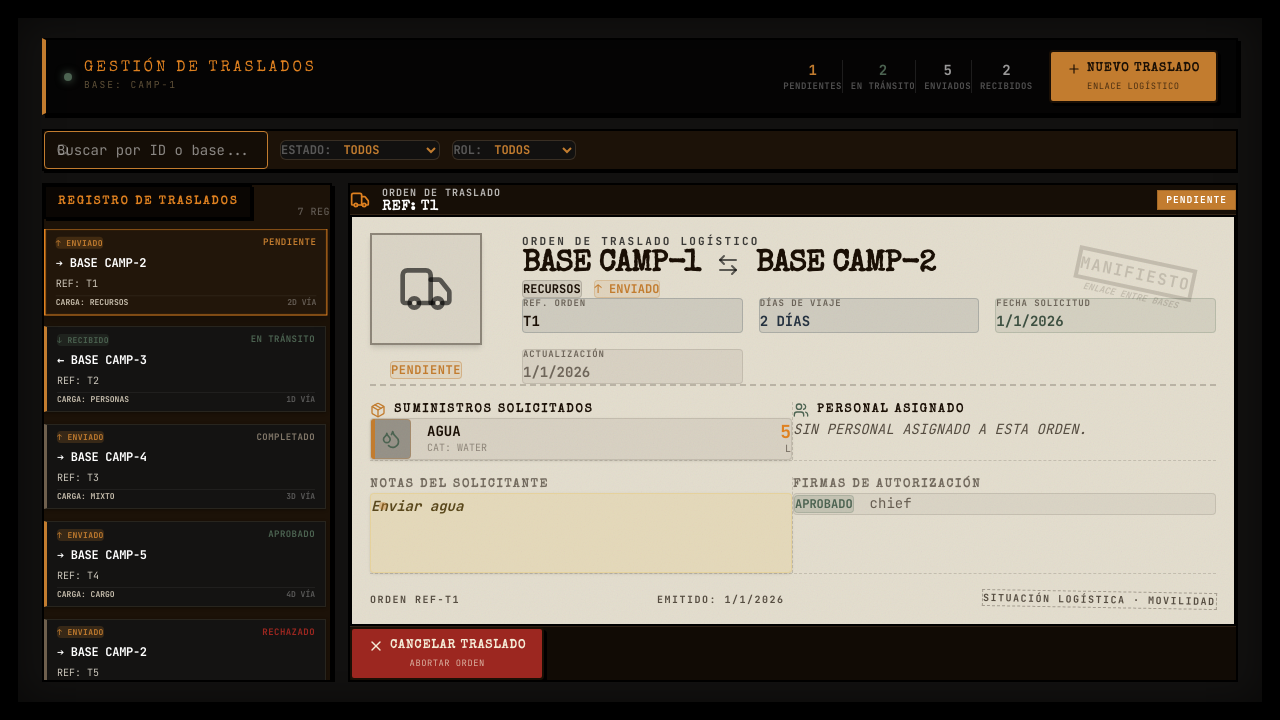
Test case: TravelTransfers › shows API validation errors when transfer creation fails
Step 1. Click the text "Nuevo traslado" → point(1133, 69), box [1067,60,1200,78]
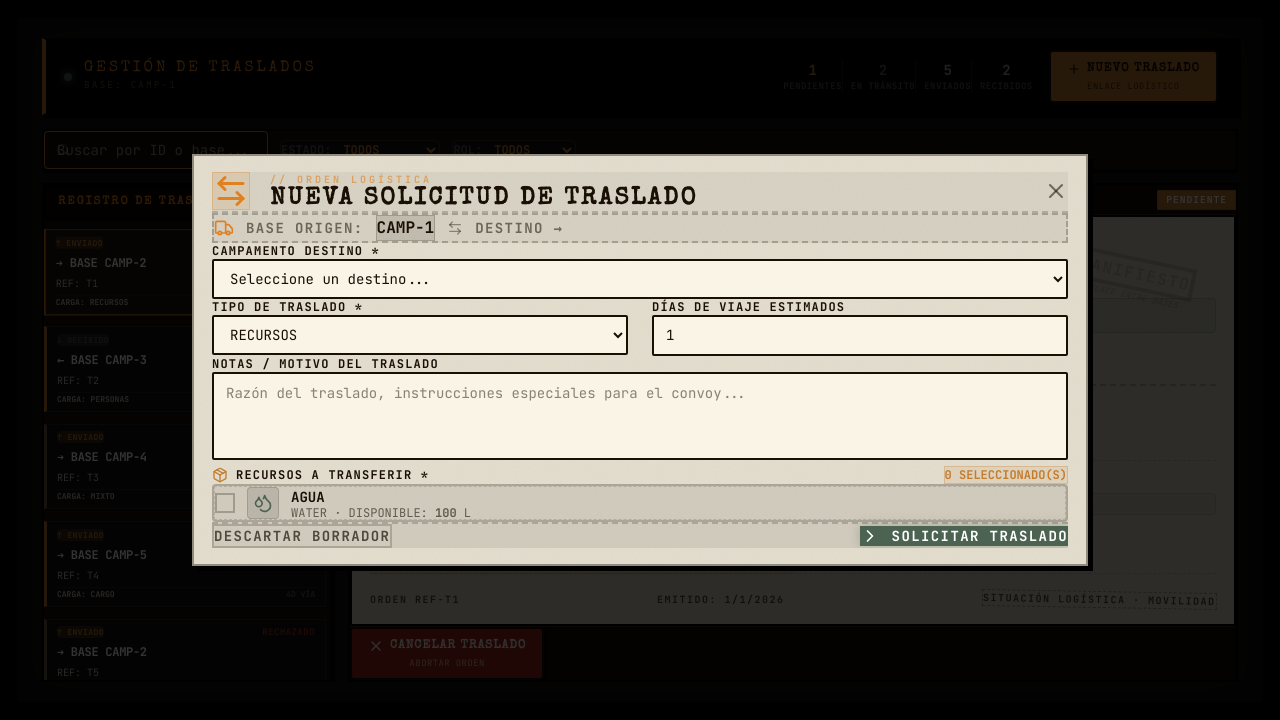
Check: the heading "Nueva Solicitud de Traslado" is shown, box [270,187,698,211]
Step 2. Select "Bravo Camp" in the dropdown labelled "Campamento Destino *" → point(640, 279), box [212,259,1068,299]
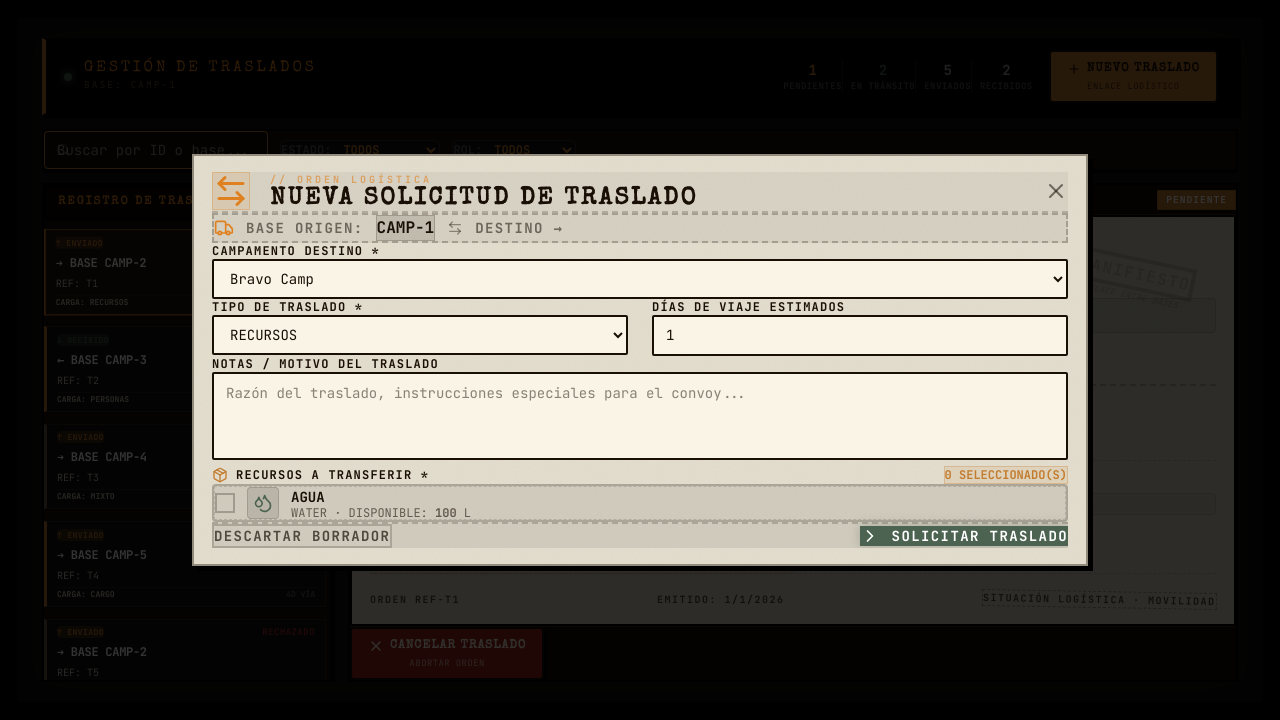
Step 3. Click the text "Agua" → point(308, 497), box [291,488,325,506]
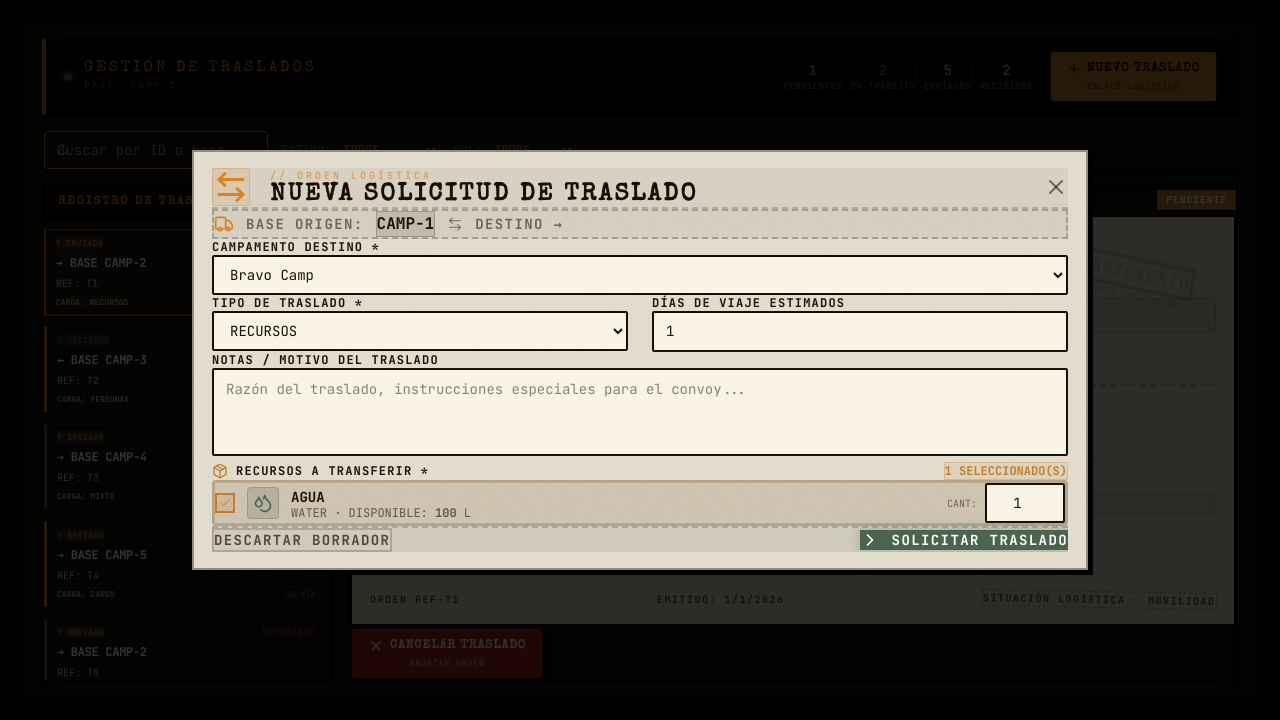
Step 4. Click the button "Solicitar Traslado" → point(964, 540), box [860,530,1068,550]
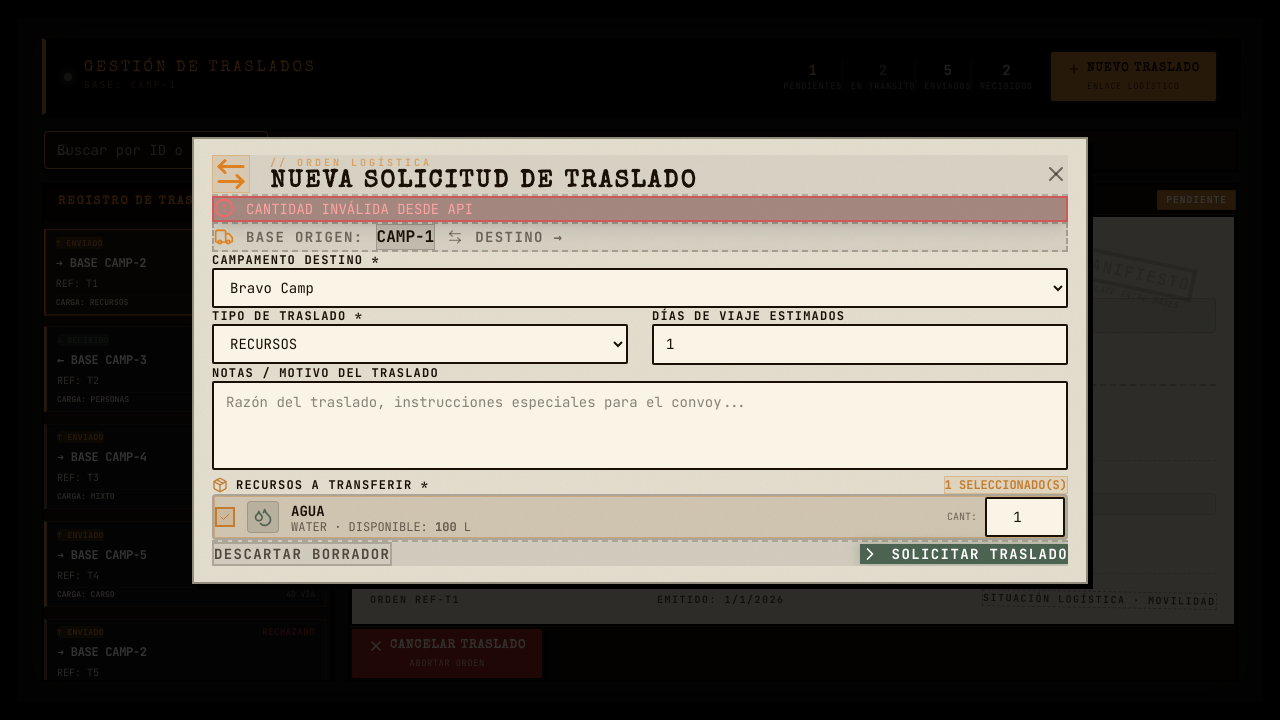
Check: the text "Cantidad inválida desde API" is shown, box [246,198,473,220]
